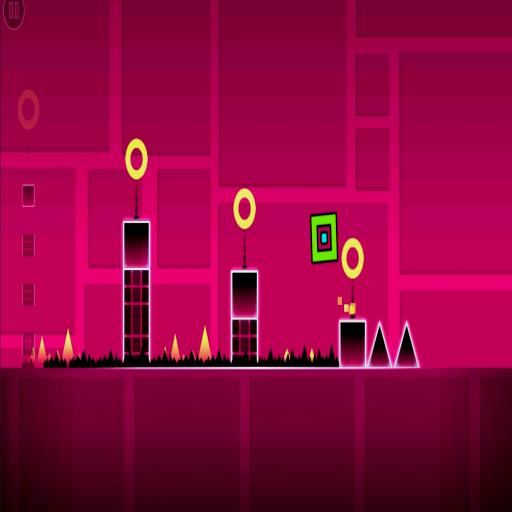block: (117, 218, 153, 369), (229, 267, 259, 364), (336, 319, 368, 370), (21, 326, 38, 357), (20, 279, 36, 311), (20, 232, 36, 262), (20, 184, 36, 212)
player: (310, 212, 338, 263)
spike: (368, 321, 392, 367), (395, 321, 418, 367), (199, 325, 212, 360), (62, 330, 75, 362), (171, 334, 181, 361), (38, 336, 47, 365), (284, 349, 290, 362), (31, 349, 35, 365), (310, 347, 314, 362), (191, 350, 195, 360), (56, 350, 60, 360), (163, 346, 166, 358), (47, 354, 51, 359), (182, 354, 185, 359), (77, 353, 80, 357)
